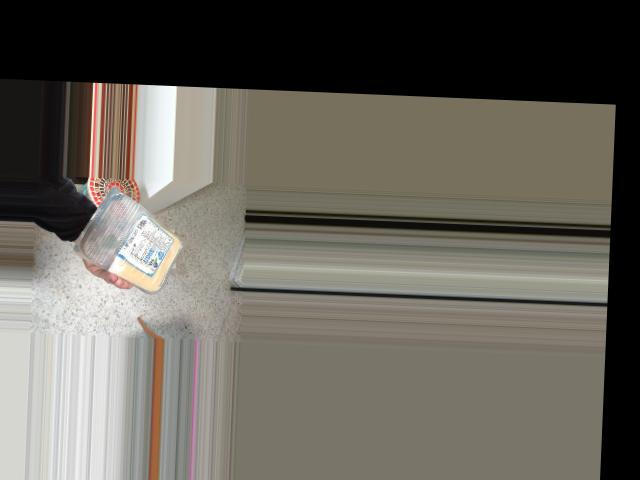cheese: (79, 189, 192, 284)
